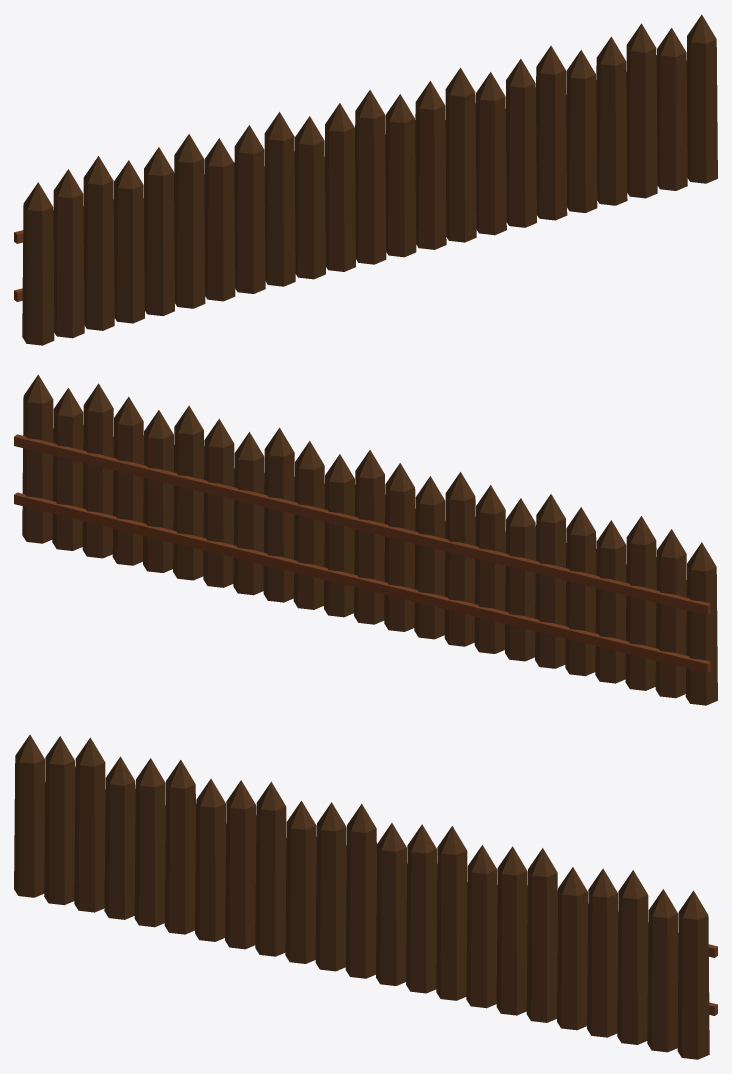
File: orc_wall_broken.glb
3 renders of one model, top to bottom at view 1: azimuth 30°, elevation 25°; view 2: azimuth 150°, elevation 25°; view 3: azimuth 330°, elevation 25°, orthographic.
Parts seen in each view (by area): view 1: orc_wall_piece4, orc_wall_piece5, orc_wall_piece7, orc_wall_piece2, orc_wall_piece11, orc_wall_piece13, orc_wall_piece6, orc_wall_piece12, orc_wall_piece10, orc_wall_piece1, orc_wall_piece8, orc_wall_piece3 (+2 smaller); view 2: orc_wall_piece4, orc_wall_piece5, orc_wall_piece6, orc_wall_piece7, orc_wall_piece2, orc_wall_piece11, orc_wall_piece3, orc_wall_piece8, orc_wall_piece10, orc_wall_piece13, orc_wall_piece9, orc_wall_piece12 (+2 smaller); view 3: orc_wall_piece4, orc_wall_piece5, orc_wall_piece7, orc_wall_piece2, orc_wall_piece13, orc_wall_piece6, orc_wall_piece10, orc_wall_piece11, orc_wall_piece12, orc_wall_piece1, orc_wall_piece8, orc_wall_piece3 (+2 smaller).
Boxes of the visible parts, bbox=[...] form: orc_wall_piece4: bbox=[579, 14, 717, 208]; orc_wall_piece5: bbox=[144, 125, 287, 301]; orc_wall_piece7: bbox=[264, 90, 417, 220]; orc_wall_piece2: bbox=[69, 156, 207, 319]; orc_wall_piece11: bbox=[14, 224, 140, 345]; orc_wall_piece13: bbox=[412, 45, 565, 238]; orc_wall_piece6: bbox=[476, 78, 599, 233]; orc_wall_piece12: bbox=[417, 59, 535, 189]; orc_wall_piece10: bbox=[264, 178, 415, 284]; orc_wall_piece1: bbox=[476, 23, 656, 192]; orc_wall_piece8: bbox=[23, 169, 117, 301]; orc_wall_piece3: bbox=[356, 151, 505, 260]; orc_wall_piece4: bbox=[14, 374, 146, 561]; orc_wall_piece5: bbox=[459, 485, 596, 661]; orc_wall_piece6: bbox=[114, 433, 261, 595]; orc_wall_piece7: bbox=[309, 450, 475, 565]; orc_wall_piece2: bbox=[532, 516, 669, 680]; orc_wall_piece11: bbox=[603, 582, 717, 705]; orc_wall_piece3: bbox=[246, 501, 423, 637]; orc_wall_piece8: bbox=[599, 529, 716, 681]; orc_wall_piece10: bbox=[344, 542, 469, 645]; orc_wall_piece13: bbox=[183, 405, 324, 559]; orc_wall_piece9: bbox=[300, 507, 454, 645]; orc_wall_piece12: bbox=[214, 418, 324, 532]; orc_wall_piece4: bbox=[560, 886, 717, 1059]; orc_wall_piece5: bbox=[135, 758, 263, 955]; orc_wall_piece7: bbox=[255, 781, 406, 927]; orc_wall_piece2: bbox=[54, 737, 194, 934]; orc_wall_piece13: bbox=[391, 848, 548, 980]; orc_wall_piece6: bbox=[474, 905, 587, 1029]; orc_wall_piece10: bbox=[258, 876, 398, 969]; orc_wall_piece11: bbox=[14, 771, 119, 919]; orc_wall_piece12: bbox=[406, 824, 517, 931]; orc_wall_piece1: bbox=[469, 868, 642, 963]; orc_wall_piece8: bbox=[15, 734, 104, 891]; orc_wall_piece3: bbox=[345, 931, 485, 1006].
Size of the model in its own units: 6.25 by 1.45 by 0.2706.
